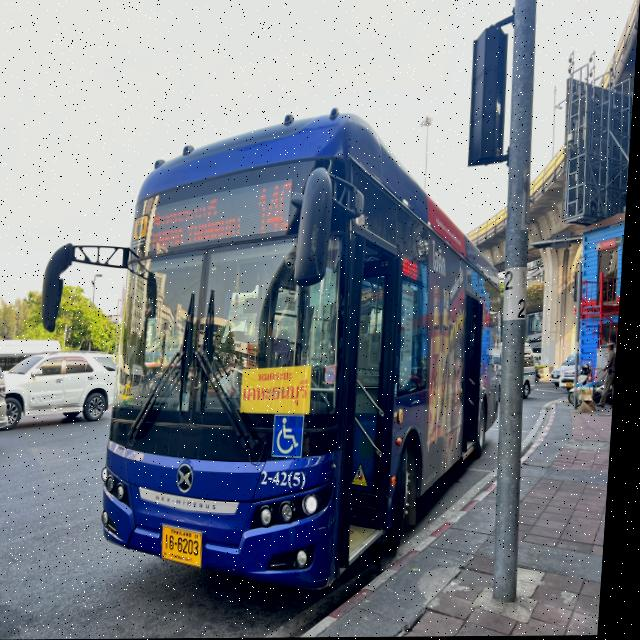Bus-Line-Number: (257, 173, 299, 235)
Destination-Sign-Normal: (150, 191, 252, 245)
Destination-Sign-Normal-Expressway: (246, 366, 319, 414)
TSB-Bus: (102, 110, 514, 595)
